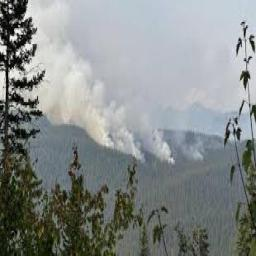Low smoke: (0, 0, 216, 166)
